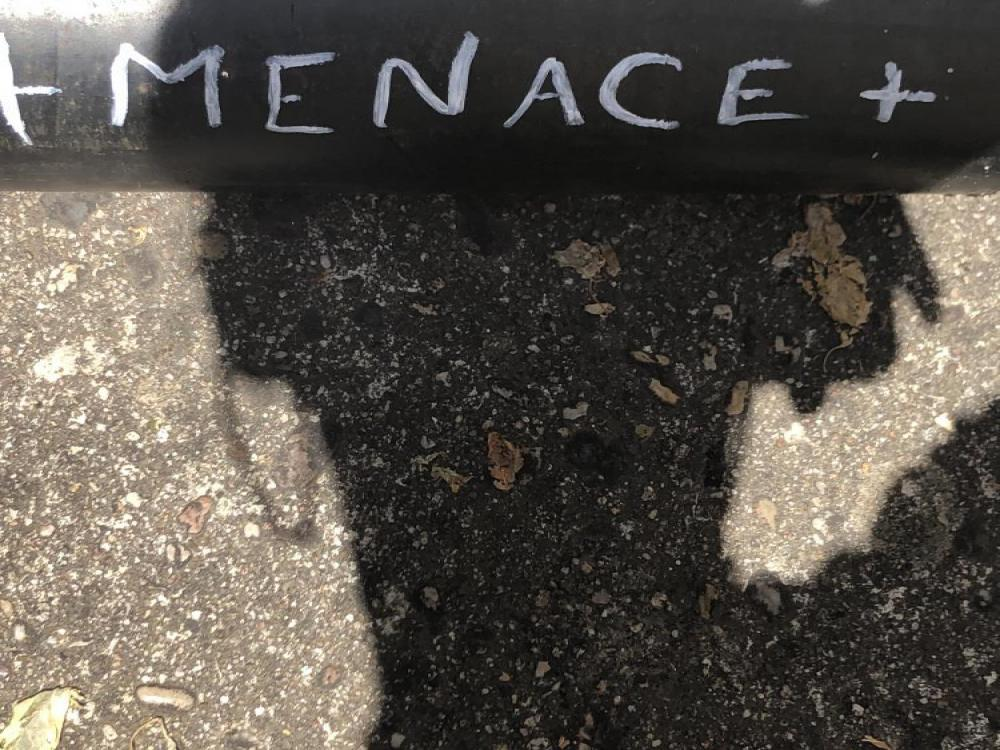+: (860, 62, 936, 123)
A: (503, 59, 585, 132)
C: (598, 52, 686, 133)
E: (718, 60, 810, 130), (267, 51, 338, 136)
M: (111, 43, 227, 131)
N: (368, 33, 482, 131)
